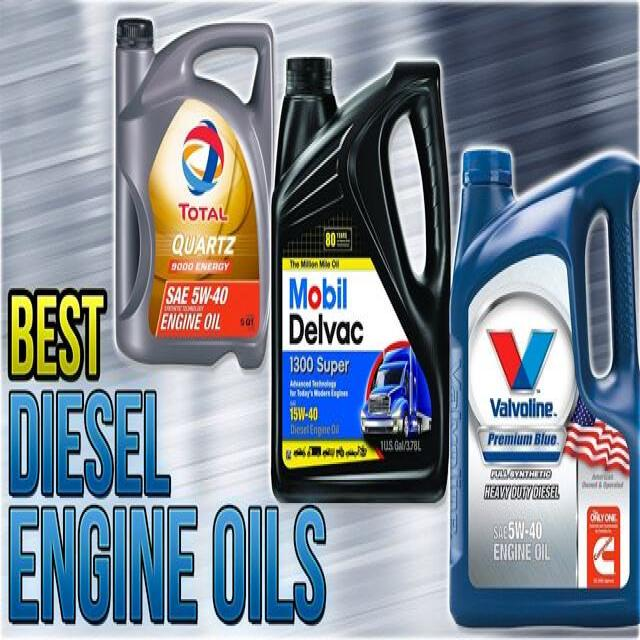motor_oil: (445, 138, 639, 632), (267, 52, 452, 504), (106, 18, 274, 369)
